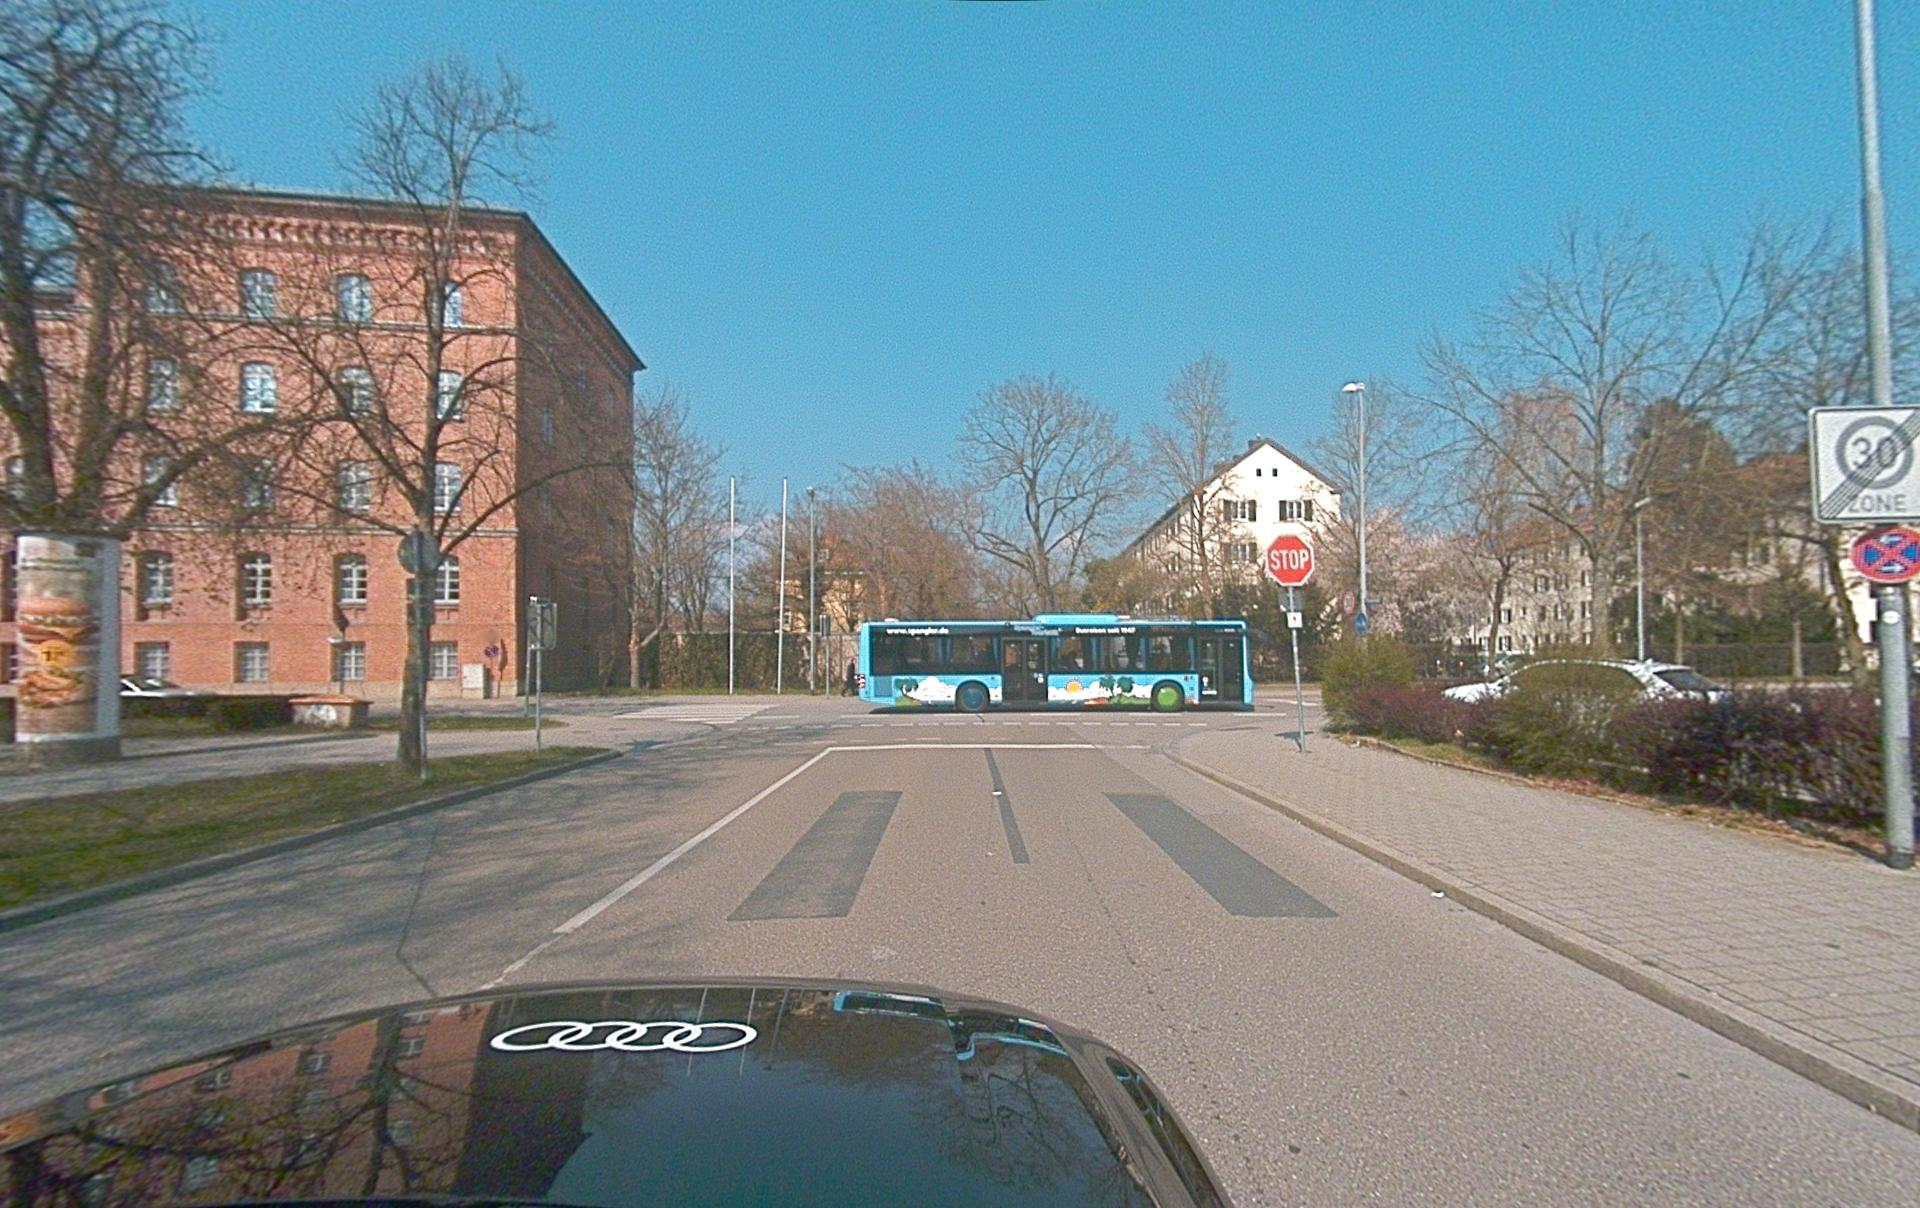car: (1, 977, 1236, 1207), (1442, 657, 1705, 739), (118, 674, 207, 717)
traffic sign: (1809, 404, 1919, 525)
